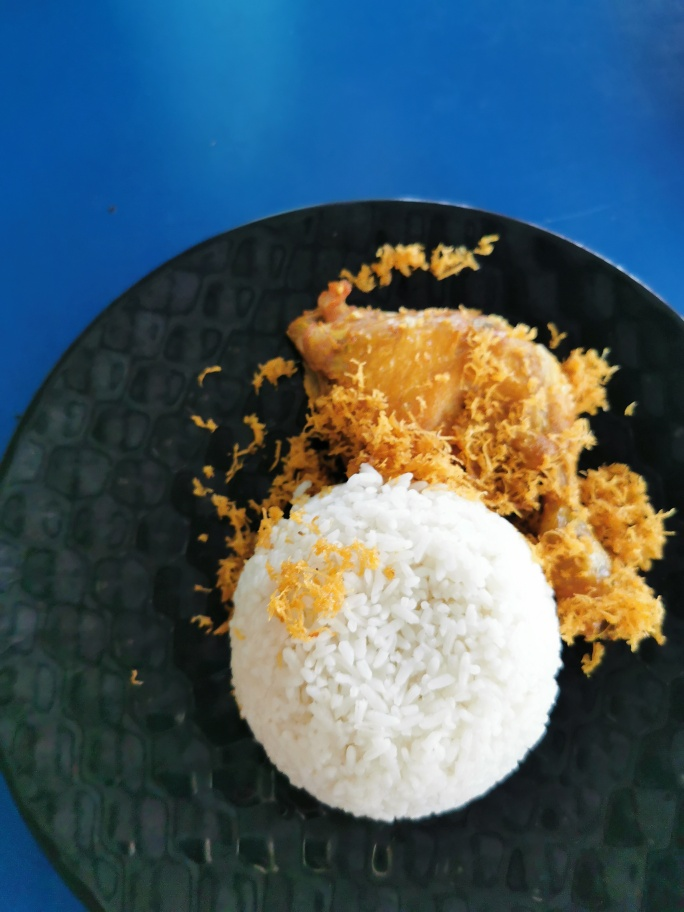ayam goreng: (270, 261, 661, 649)
nasi putih: (220, 477, 564, 834)
